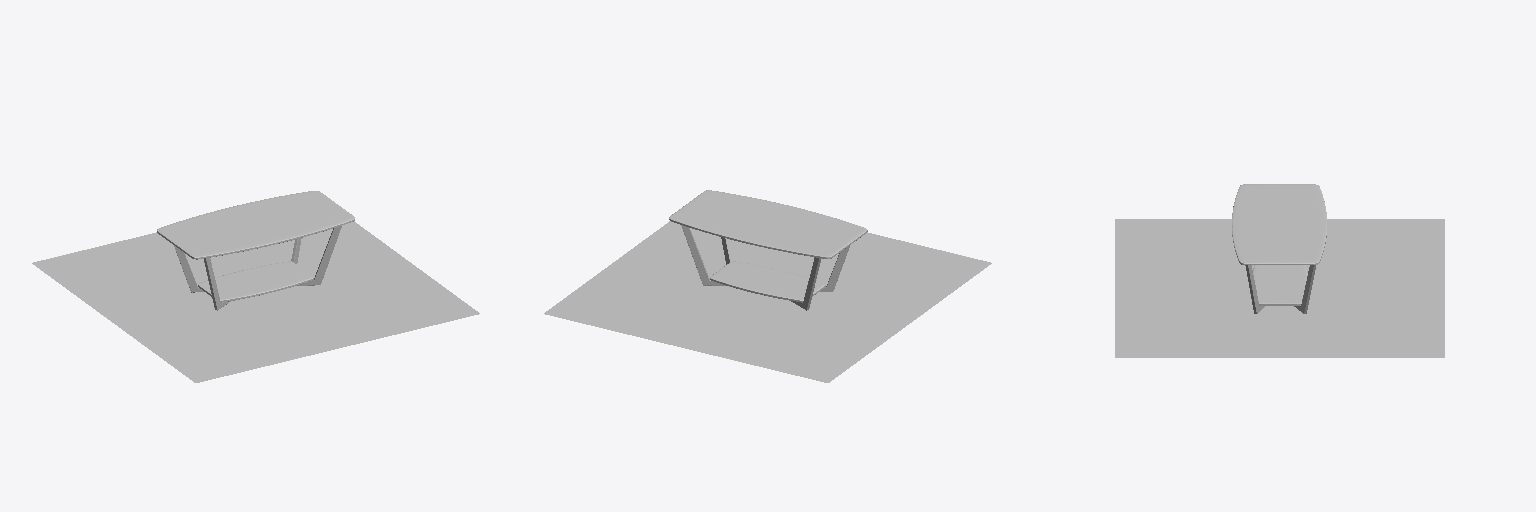
The model's file is TRNT2115.obj.
The picture shows the model from 3 angles: view 1: azimuth 30°, elevation 25°; view 2: azimuth 150°, elevation 25°; view 3: azimuth 270°, elevation 25°; orthographic projection.
Parts seen in each view (by area): view 1: shadow_plane_v6, not_clear_obj_0_v6, not_clear_obj_1_v6; view 2: shadow_plane_v6, not_clear_obj_0_v6, not_clear_obj_1_v6; view 3: shadow_plane_v6, not_clear_obj_0_v6, not_clear_obj_1_v6.
Part boxes in pixels (x1,y1,x2,y2): shadow_plane_v6: (32, 221, 479, 382); not_clear_obj_0_v6: (157, 191, 354, 302); not_clear_obj_1_v6: (174, 226, 341, 310); shadow_plane_v6: (544, 221, 991, 382); not_clear_obj_0_v6: (669, 190, 867, 302); not_clear_obj_1_v6: (681, 225, 849, 310); shadow_plane_v6: (1115, 219, 1444, 357); not_clear_obj_0_v6: (1232, 184, 1326, 305); not_clear_obj_1_v6: (1245, 265, 1315, 313).
Size of the model in its own units: 210 by 45.72 by 210.